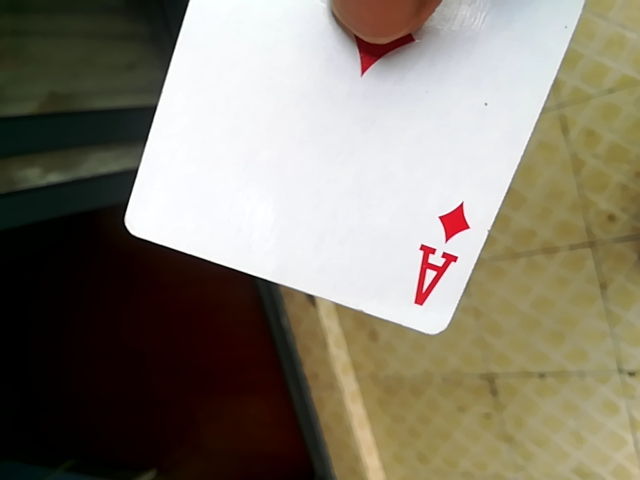fk a: (115, 2, 627, 347)
